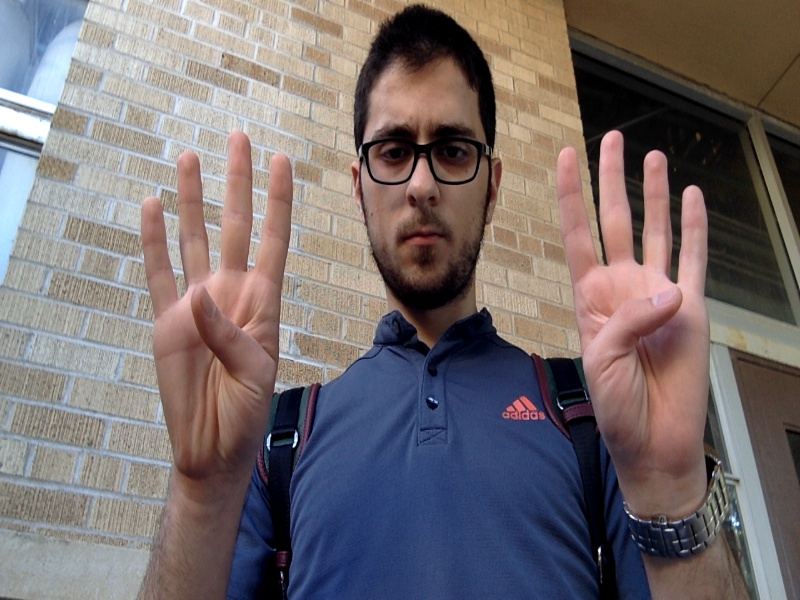4-hand: (556, 128, 709, 484), (143, 134, 294, 468)
